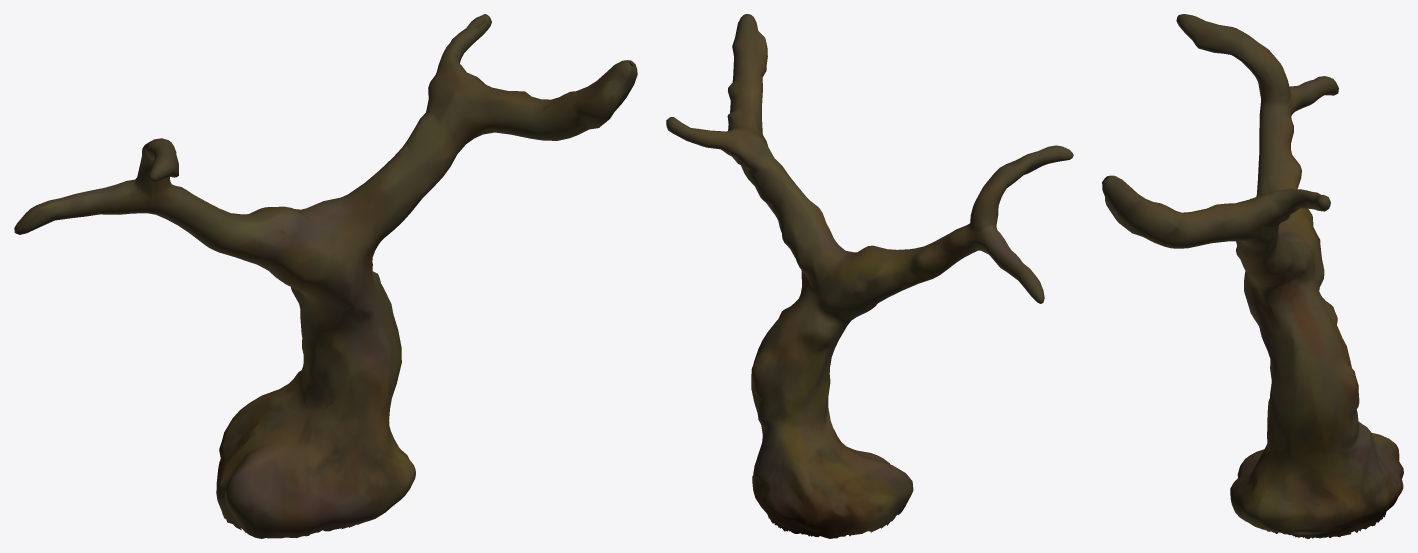
File: tree1.fbx
3 views of the same model, side by side, from view 1: azimuth 30°, elevation 25°; view 2: azimuth 150°, elevation 25°; view 3: azimuth 270°, elevation 25° (orthographic). The views are drawn at different scales.
Visible parts, largest first — view 1: Cylinder.001; view 2: Cylinder.001; view 3: Cylinder.001.
Boxes of the visible parts, bbox=[...] form: Cylinder.001: bbox=[14, 14, 637, 538]; Cylinder.001: bbox=[666, 14, 1073, 538]; Cylinder.001: bbox=[1102, 14, 1403, 538].
Size of the model in its own units: 232 by 212 by 135.
